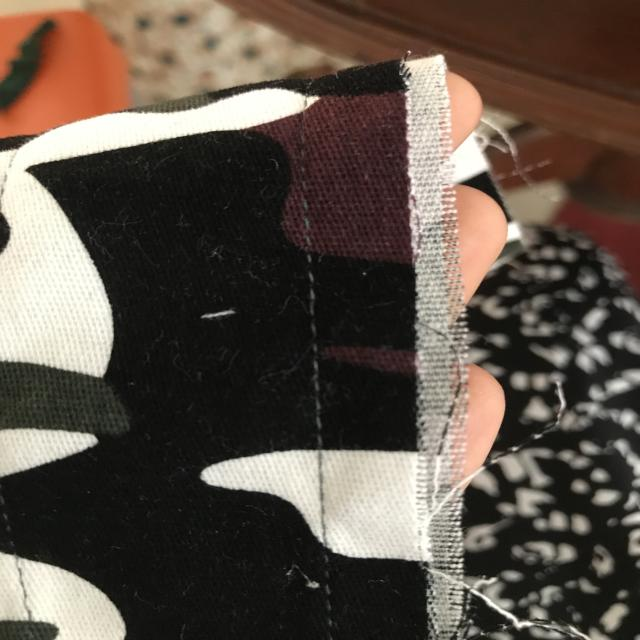good: (301, 335, 338, 448)
